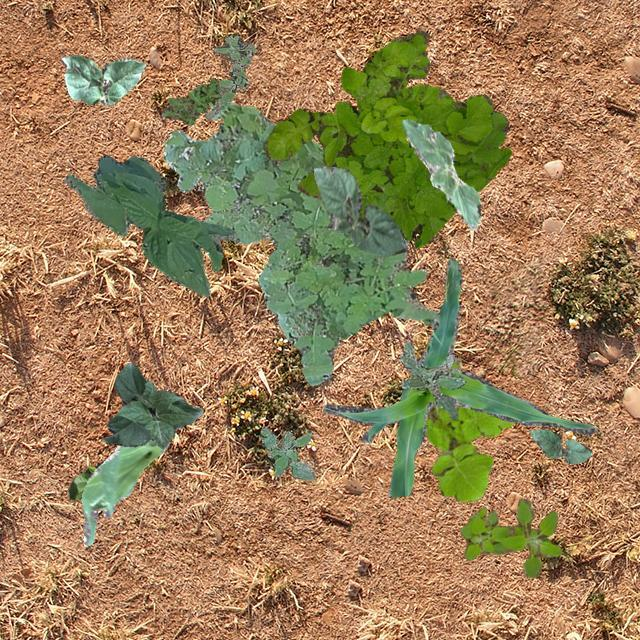crop: (322, 258, 596, 497), (62, 154, 236, 296), (79, 438, 167, 544), (100, 362, 202, 448), (400, 119, 480, 228), (313, 166, 407, 256), (60, 54, 144, 106), (528, 428, 590, 462), (66, 460, 102, 500)
weed: (162, 100, 438, 384), (264, 30, 510, 246), (422, 356, 514, 501), (460, 498, 560, 576), (400, 341, 466, 418), (203, 34, 254, 118), (258, 426, 314, 479), (160, 76, 220, 125)
